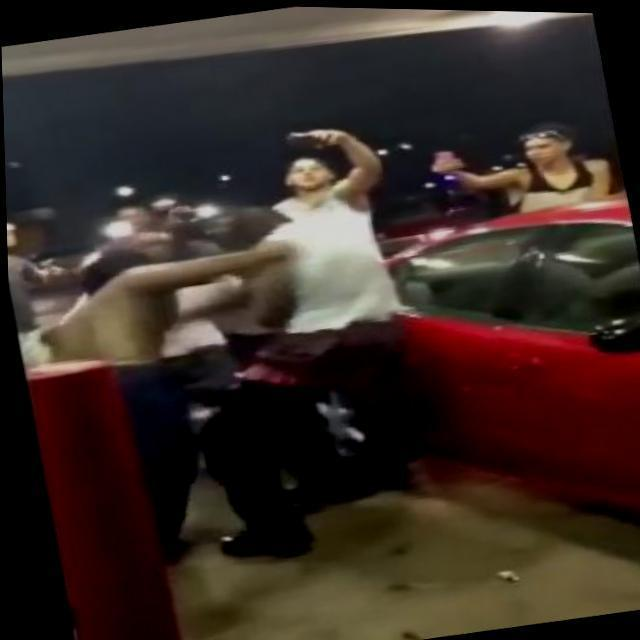fight: (64, 194, 425, 592)
